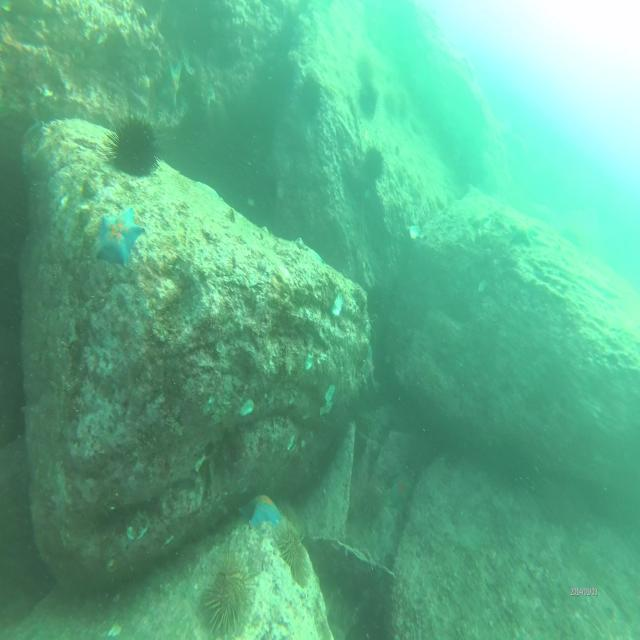echinus: (199, 556, 257, 635), (99, 105, 160, 177), (279, 518, 311, 588), (354, 468, 386, 531), (300, 65, 321, 114), (360, 78, 381, 120), (365, 146, 384, 180)
starfish: (99, 204, 146, 268), (240, 488, 284, 534), (161, 57, 188, 112)
